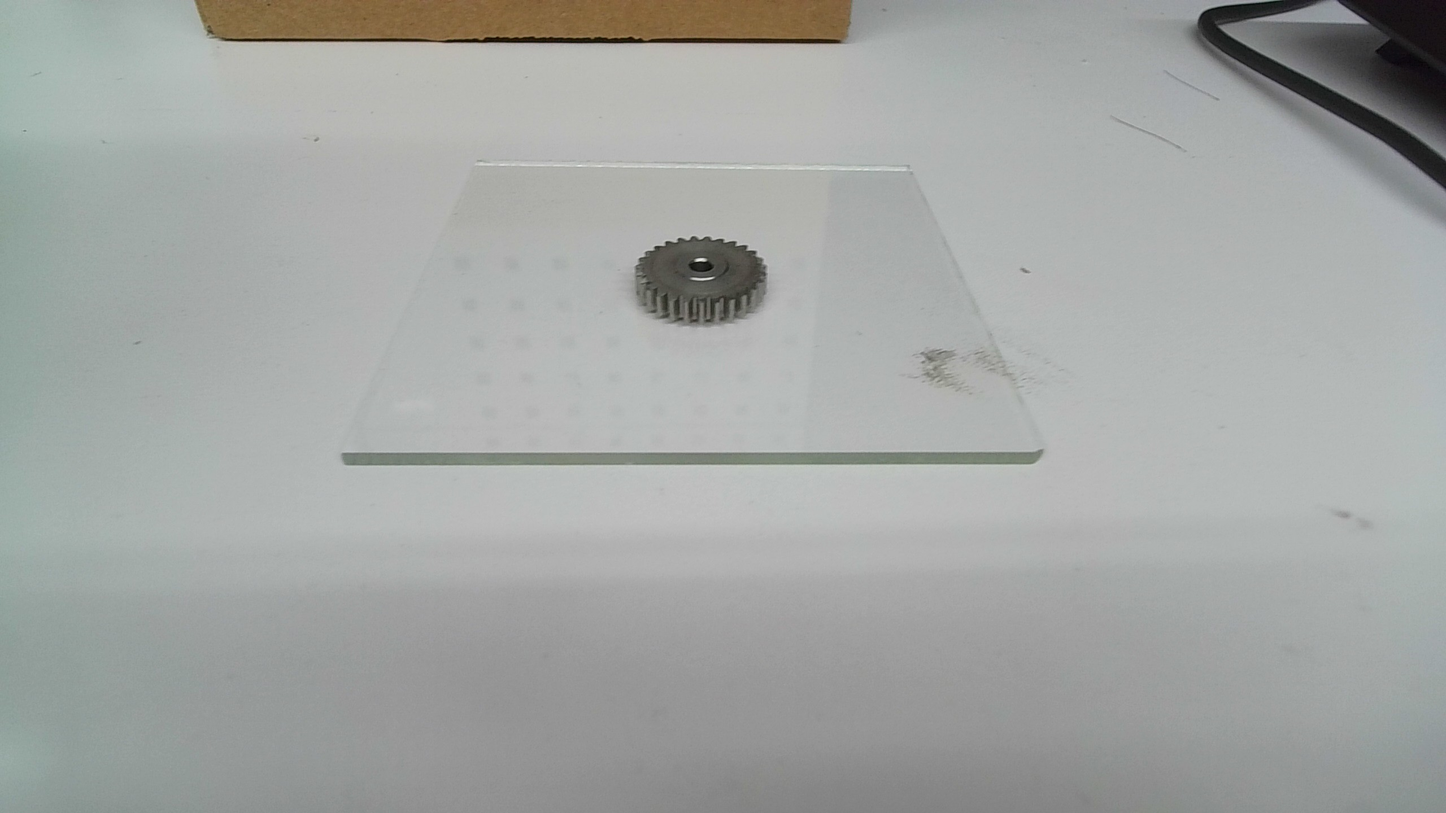gear: (633, 234, 770, 328)
